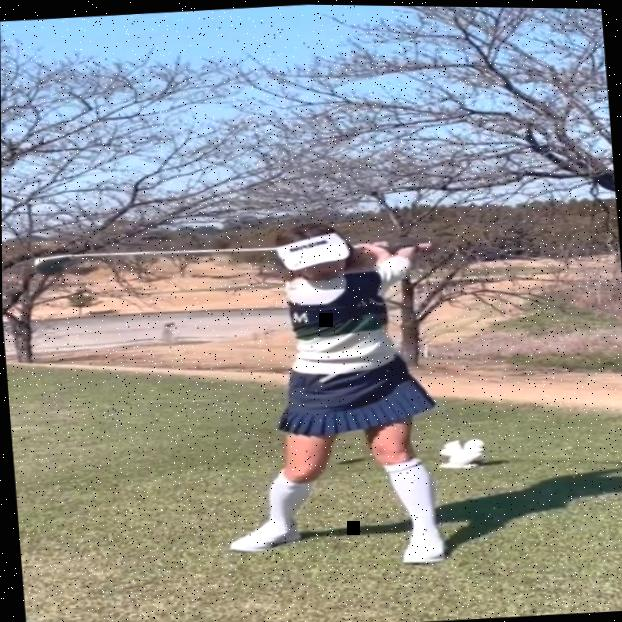ClubHead: (30, 252, 69, 277)
